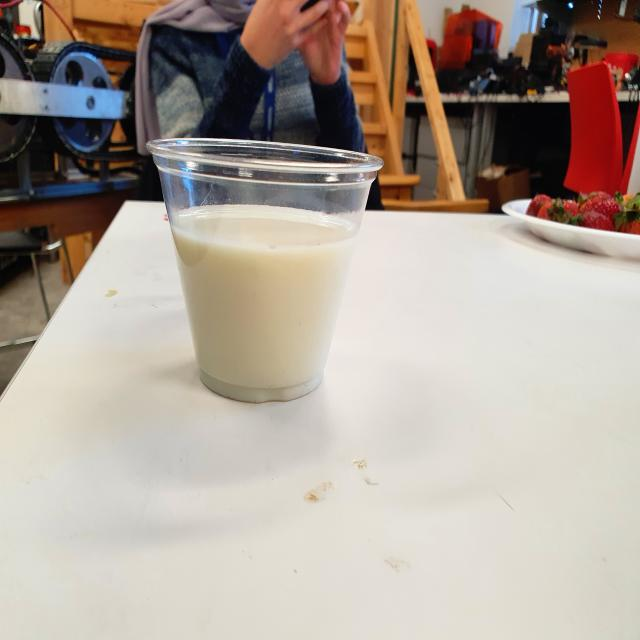Milk: (145, 106, 390, 439)
